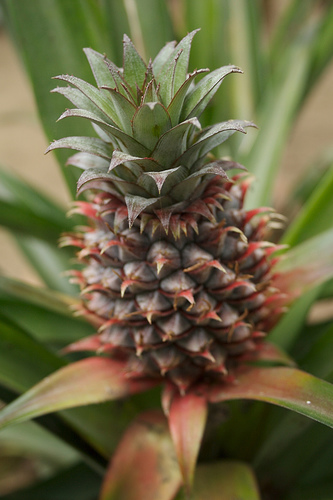pineapple: (42, 26, 289, 398)
